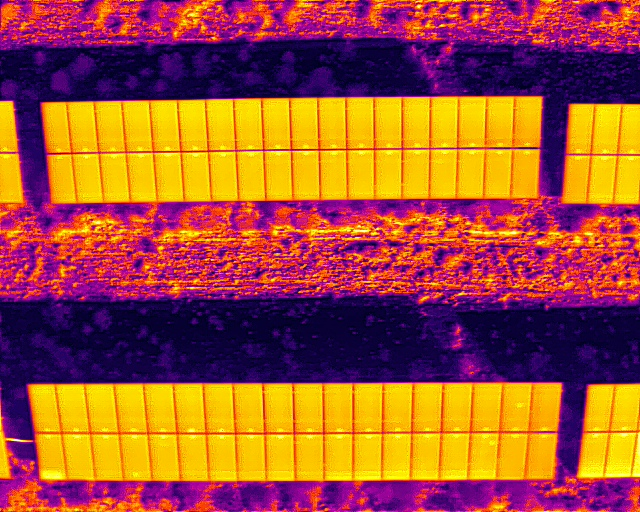photovoltaic_panels: (24, 381, 564, 484), (39, 95, 544, 200), (560, 101, 636, 203), (575, 381, 638, 479), (1, 100, 24, 204)
single_spot: (498, 382, 533, 434), (117, 431, 152, 480), (466, 430, 500, 478)
